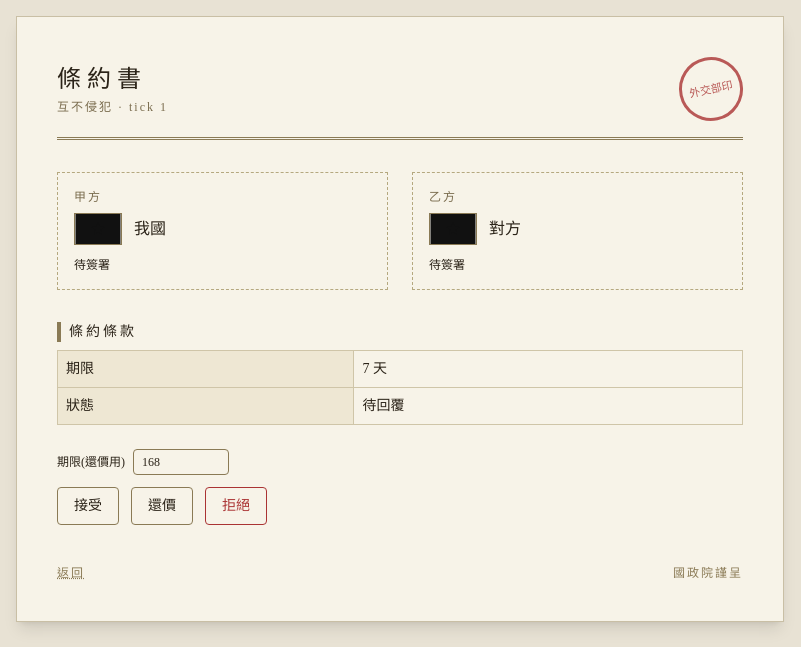
Test: TreatyPage — localStatus 重設(finding #7:伺服器狀態優先於本地樂觀值) › server status wins over the optimistic local guess once a refresh lands
Click the button "接受": (88, 506) [57,487,119,525]
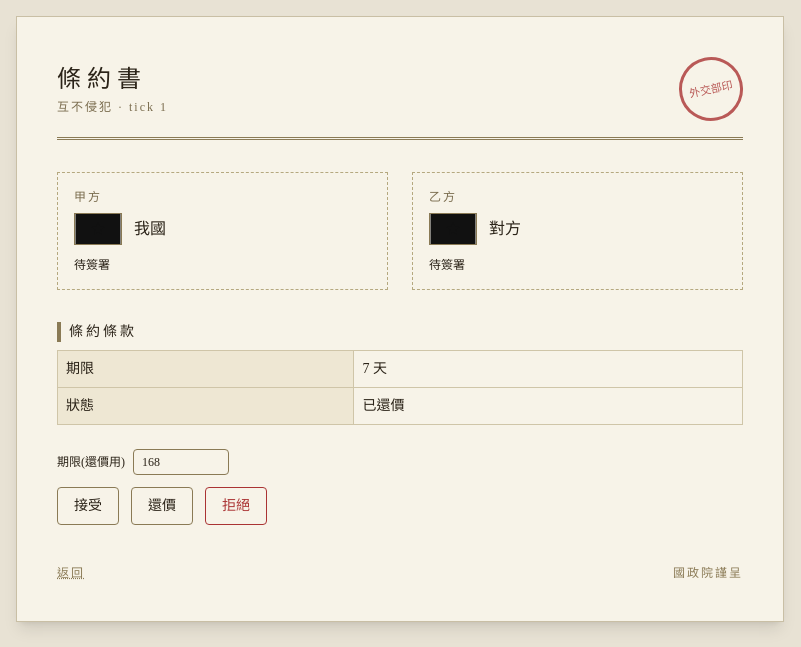
Check: the text "已還價" is shown, box [354,388,742,424]
